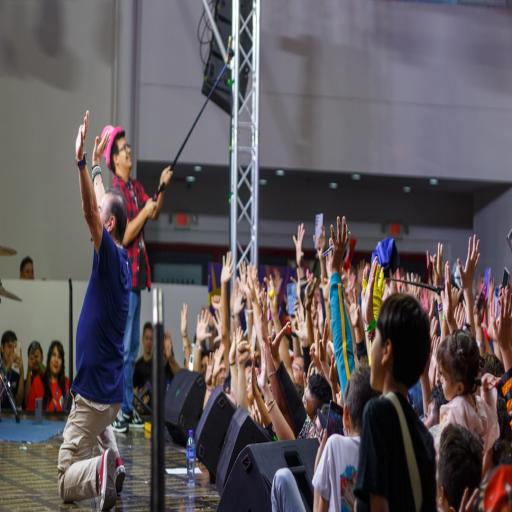face: (371, 329, 385, 391), (439, 364, 460, 401), (114, 138, 132, 175), (99, 193, 114, 235), (303, 387, 317, 421), (424, 401, 439, 428), (50, 347, 62, 378), (2, 340, 15, 365), (29, 348, 42, 372), (292, 357, 303, 383), (245, 367, 253, 400), (143, 329, 153, 355)
